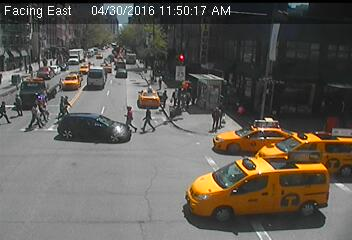neg: (242, 23, 261, 48), (286, 144, 304, 168), (49, 174, 66, 196), (85, 89, 100, 108), (28, 179, 42, 198), (297, 27, 311, 44), (71, 159, 84, 176), (203, 160, 215, 176), (158, 179, 170, 195), (58, 50, 70, 65), (176, 49, 186, 61), (247, 140, 256, 153), (97, 61, 106, 73), (88, 195, 97, 206), (66, 73, 74, 84), (149, 157, 157, 168), (51, 61, 58, 71), (94, 124, 101, 134), (266, 189, 272, 197)
pos: (19, 89, 54, 136), (115, 101, 141, 136), (137, 105, 160, 135), (205, 107, 225, 133), (8, 92, 28, 117), (166, 85, 185, 110), (57, 94, 74, 117), (54, 95, 70, 117), (214, 107, 230, 128), (159, 88, 170, 103)
